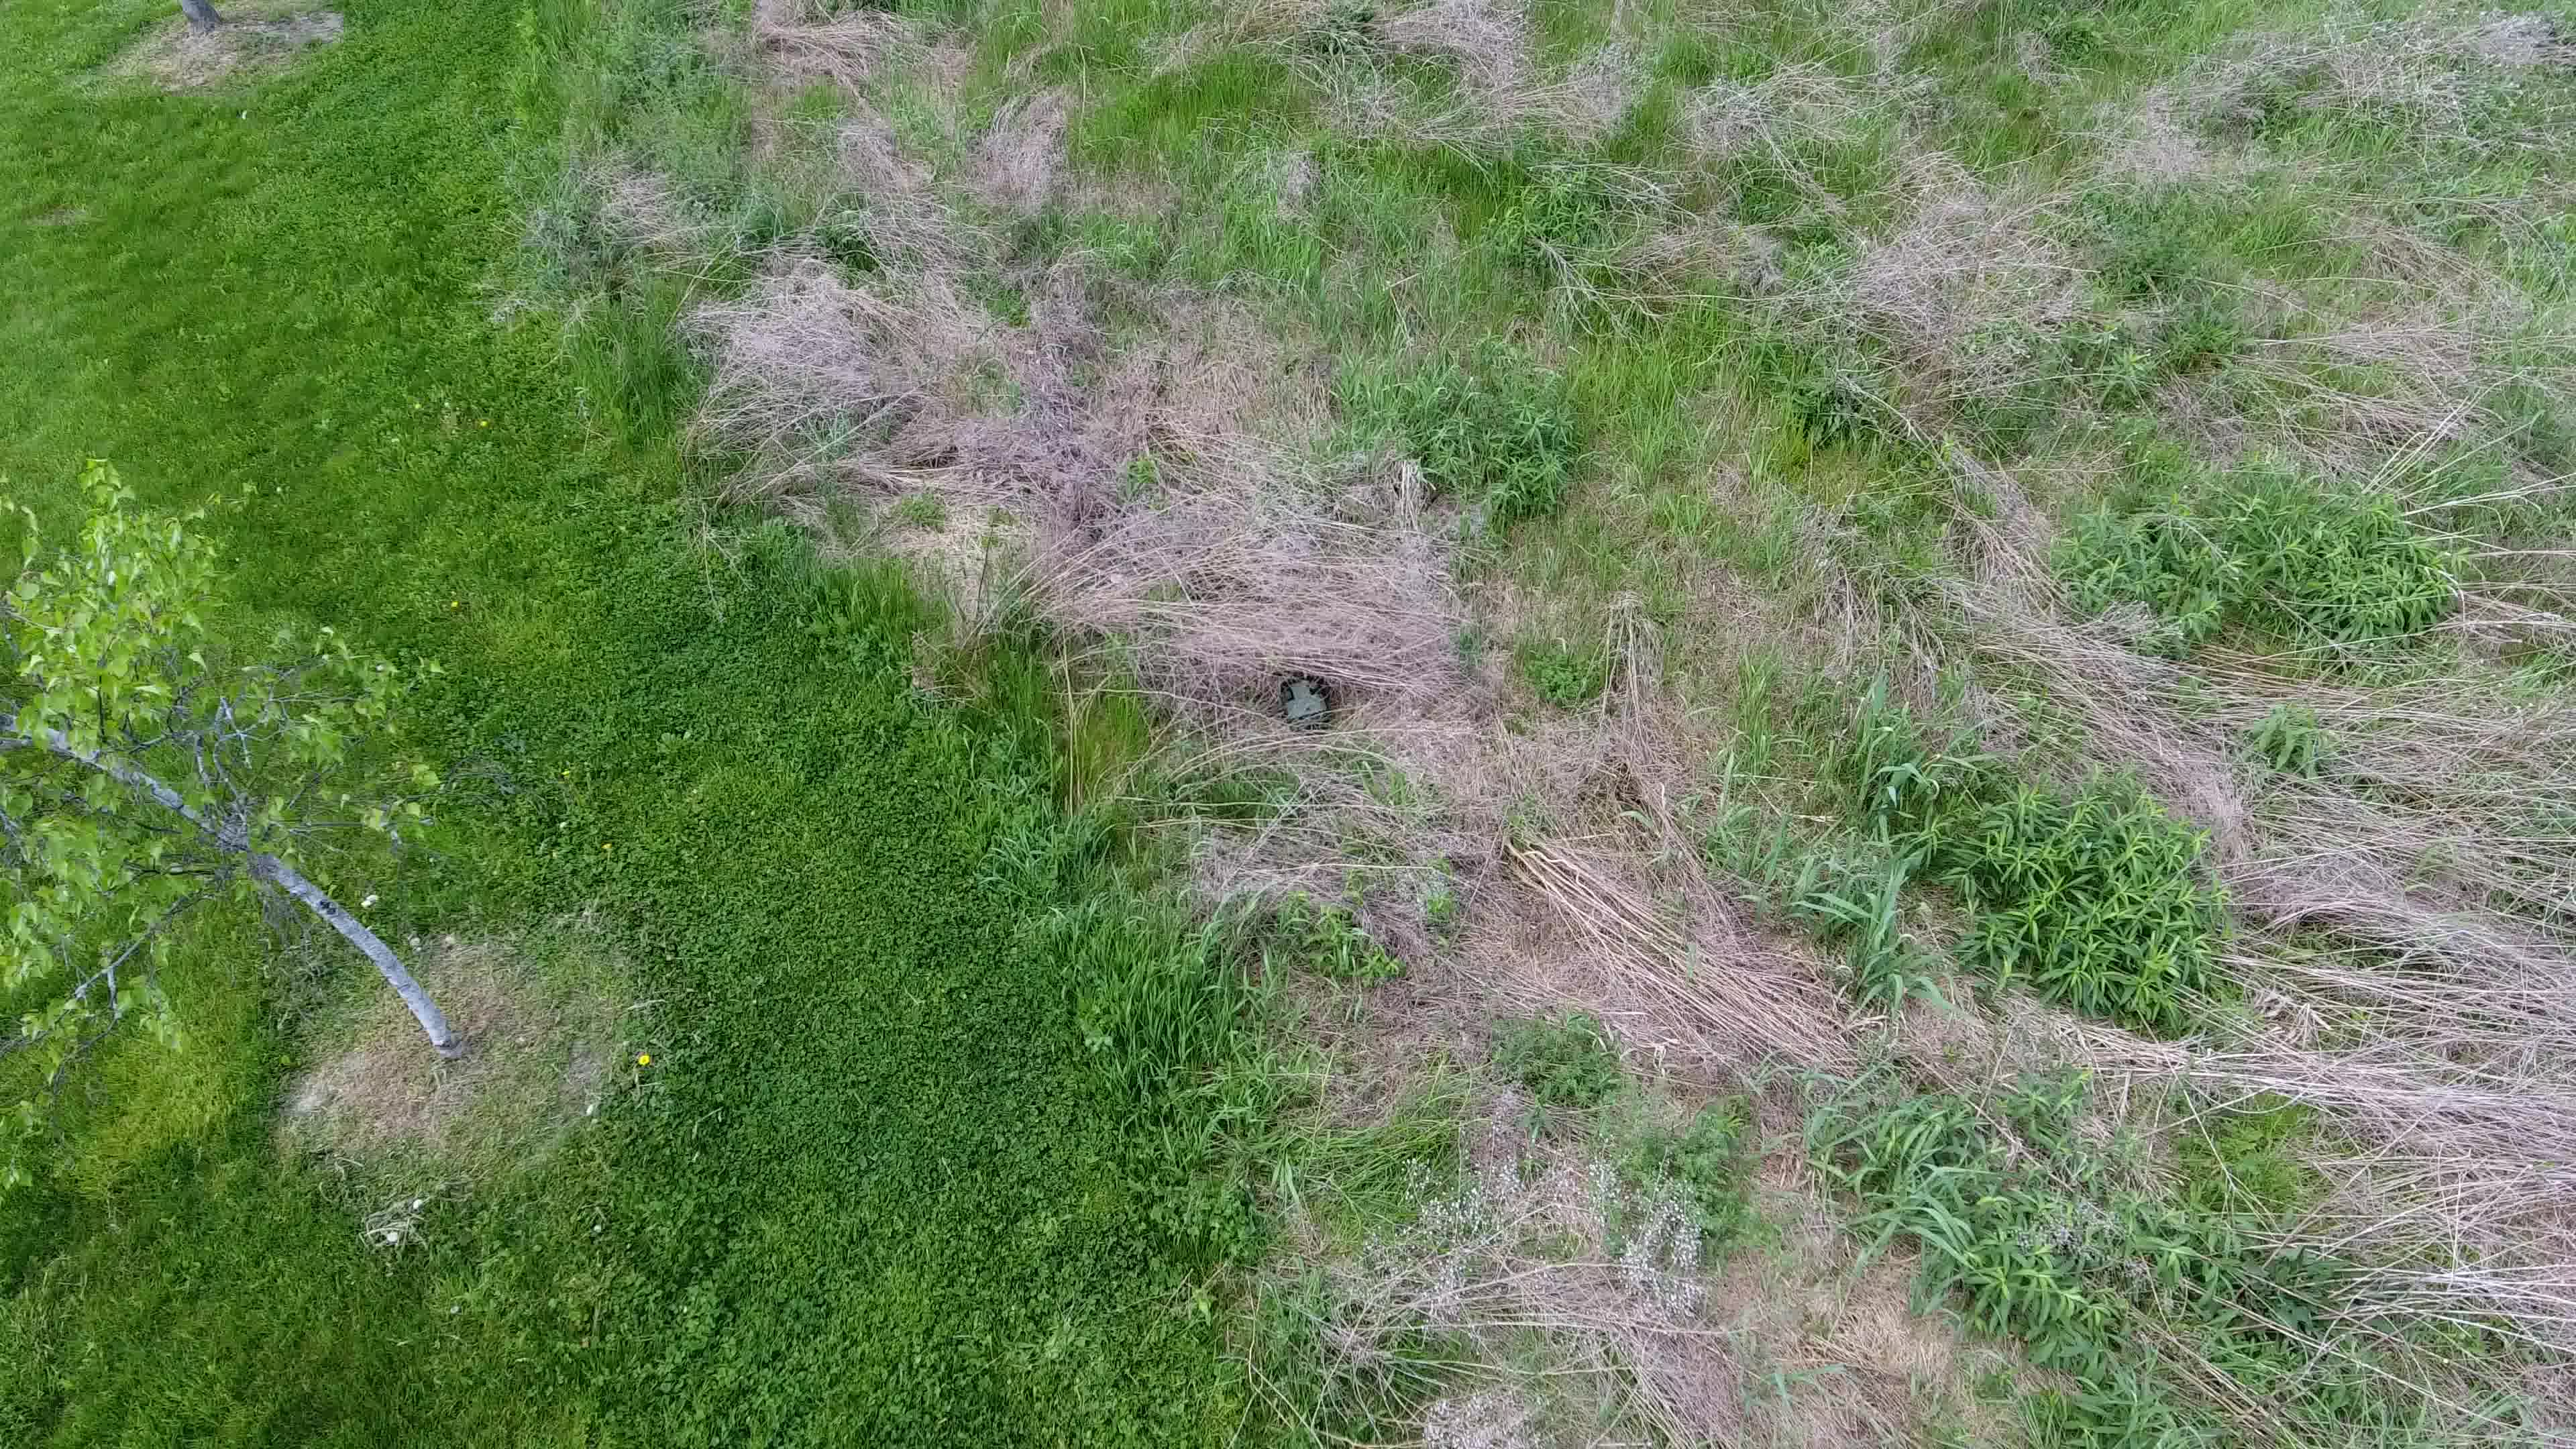transporter9: (1279, 674, 1330, 725)
